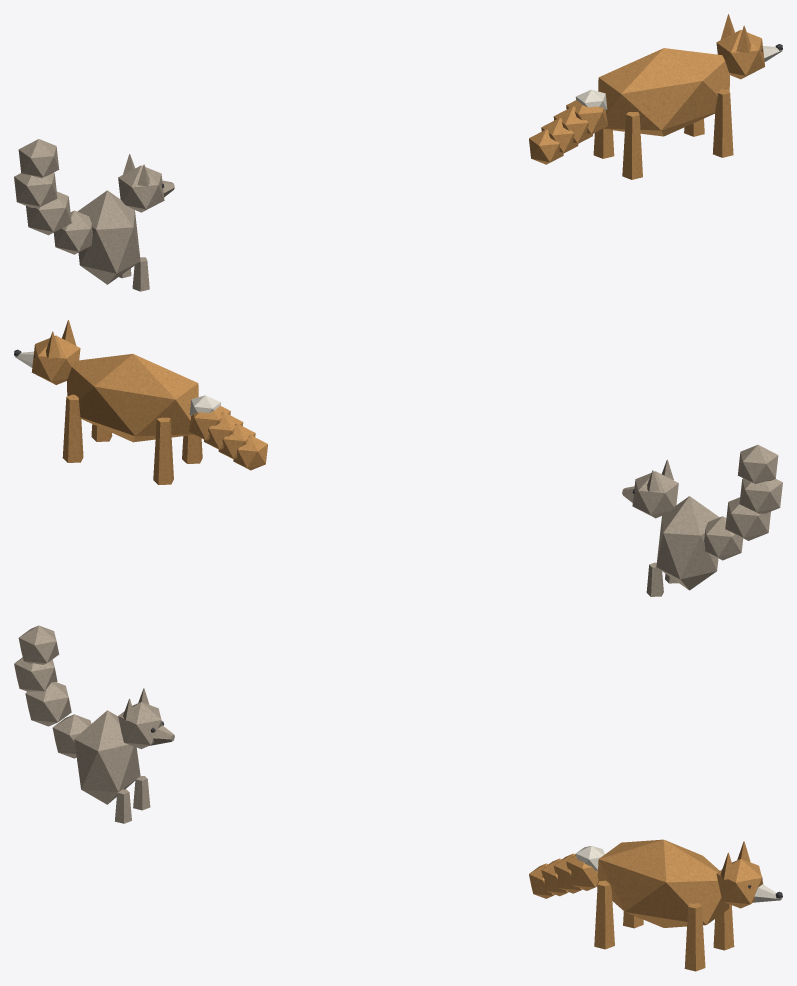
Rendered from animals.glb.
3 renders of one model, top to bottom at view 1: azimuth 30°, elevation 25°; view 2: azimuth 150°, elevation 25°; view 3: azimuth 330°, elevation 25°, orthographic.
Visible parts, largest first — view 1: predator, forager; view 2: predator, forager; view 3: predator, forager.
Part boxes in pixels (box(x1,y1,x2,y2)): predator: box(529, 14, 782, 179); forager: box(14, 139, 174, 291); predator: box(14, 320, 267, 484); forager: box(622, 444, 782, 596); predator: box(529, 839, 782, 971); forager: box(14, 625, 174, 823).
Bounding box in the file's own units: 33.85 × 7.07 × 2.96.
Materials: 2 (2 with a texture image).
